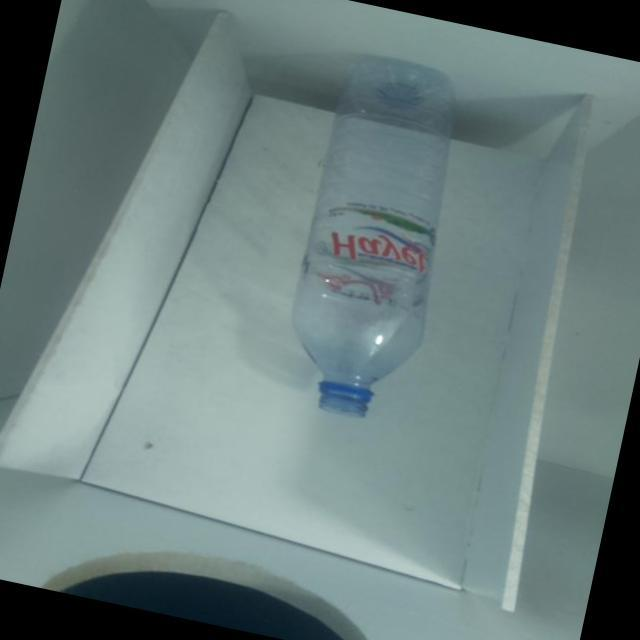good: (238, 30, 507, 444)
